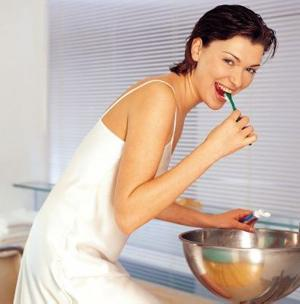person: (13, 5, 278, 304)
